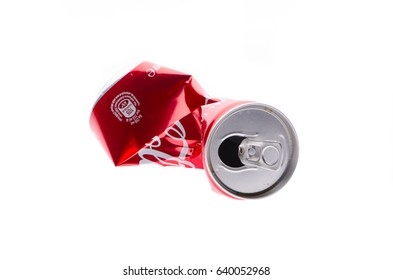can: (88, 59, 300, 201)
